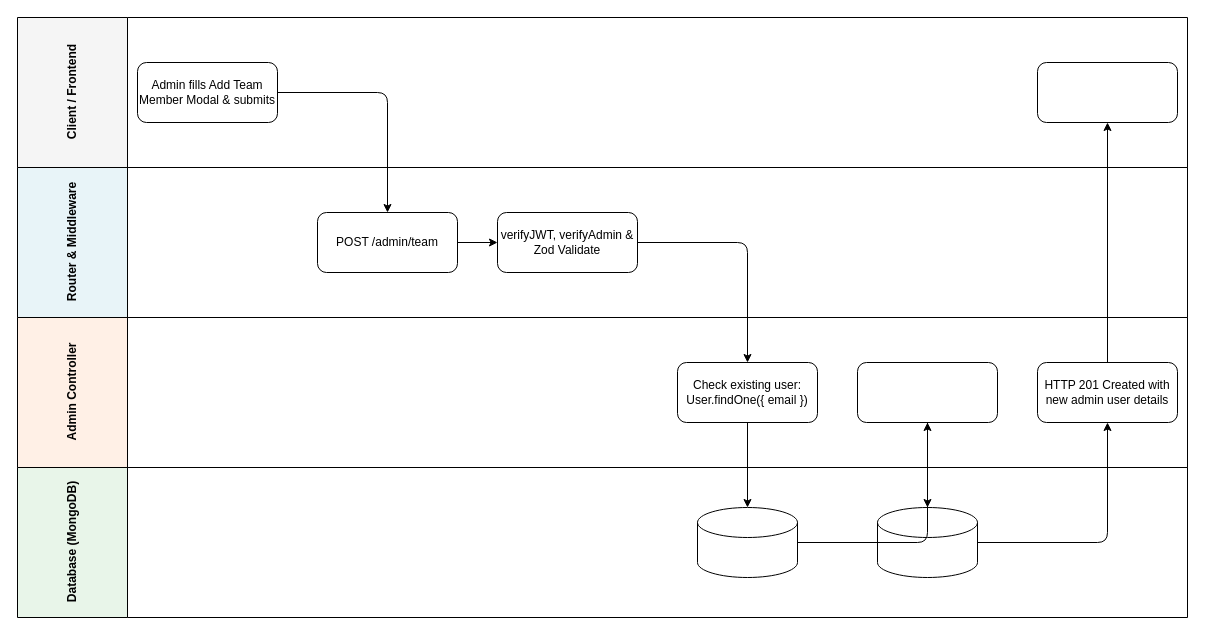
The diagram is 1205 pixels wide and 635 high, and some of its shapes have lost their labels. The shapes that lost their labels are listed below. From the top down, each one's centre as x and y in pixels, then its label:
the point at 1107,92: Refresh Team List / Show Toast Alert
the point at 927,392: User.create({ ..., role: 'admin' })
the point at 747,542: Query User by Email
the point at 927,542: Insert User Document
